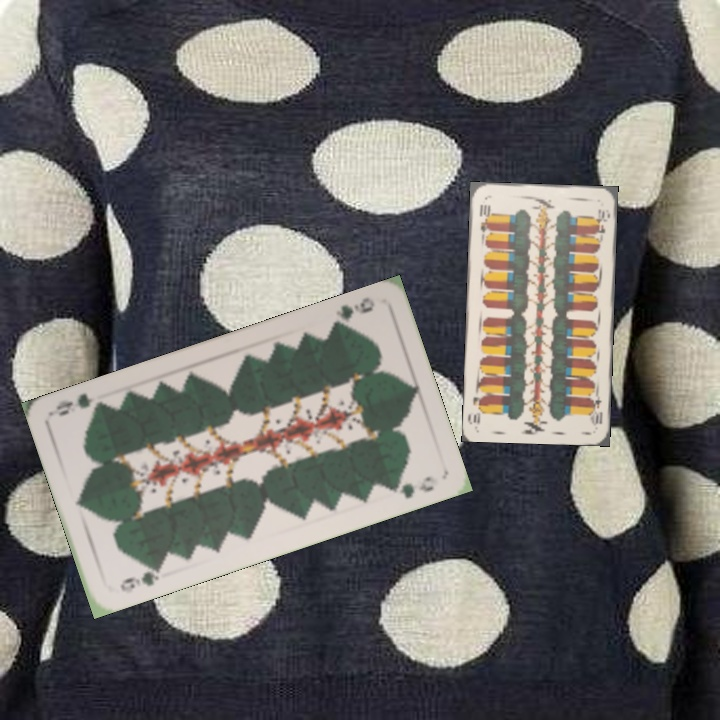E10: (586, 389, 605, 428), (476, 200, 492, 235)
G9: (327, 293, 378, 333), (116, 560, 165, 596)
